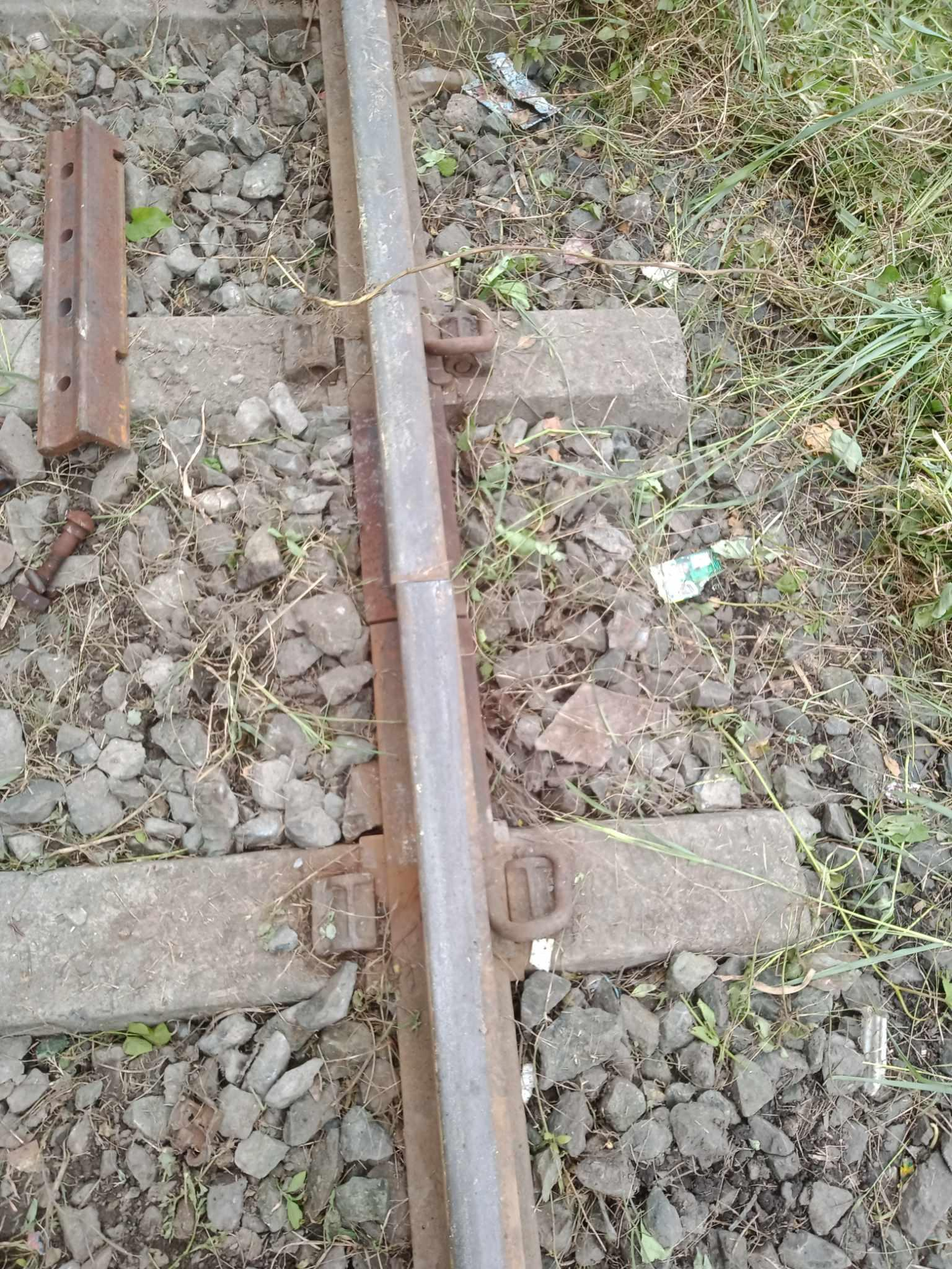railway-gap: (347, 511, 488, 656)
